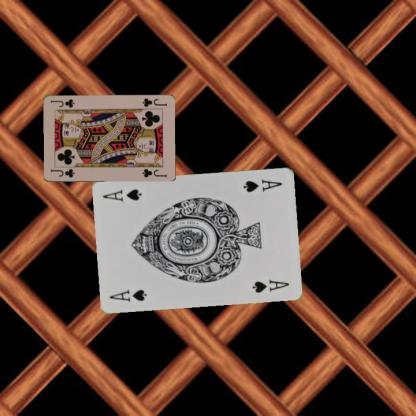As: (241, 176, 283, 193), (107, 286, 148, 302)
Jc: (140, 96, 168, 108), (48, 167, 75, 179)
